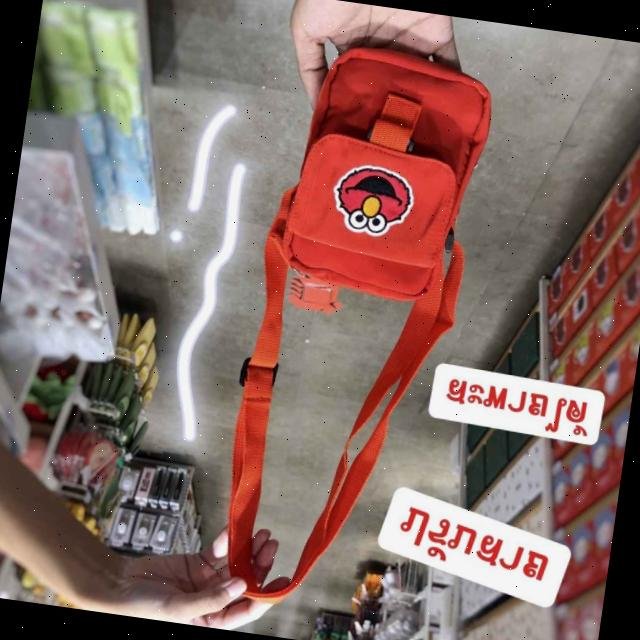Handbag: (244, 18, 506, 325)
